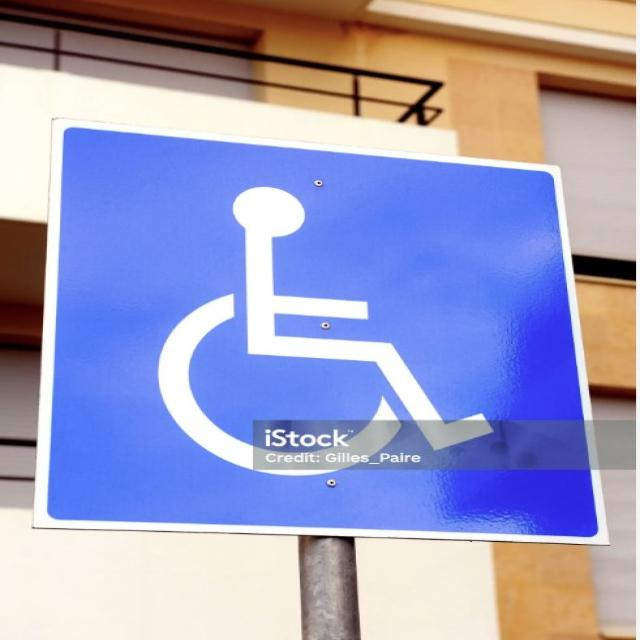symbol_of_access: (27, 115, 614, 551)
